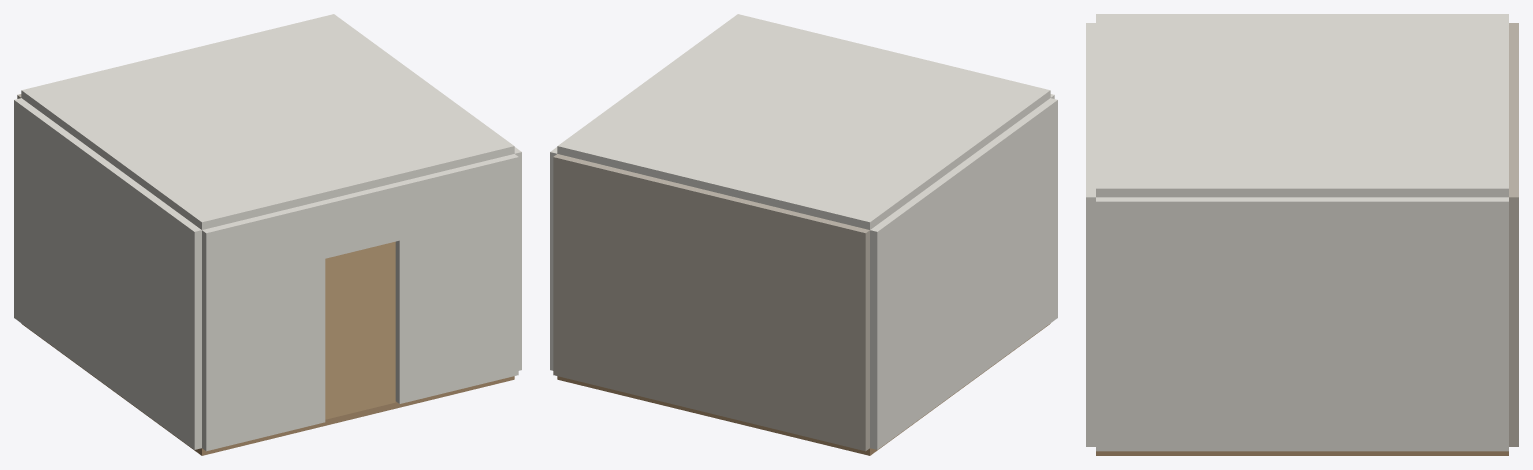
File: diana_room.obj
3 renders of one model, left to right at view 1: azimuth 30°, elevation 25°; view 2: azimuth 150°, elevation 25°; view 3: azimuth 270°, elevation 25°, orthographic. The views are drawn at different scales.
Bounding box in the file's own units: 4.4 × 3 × 4.4.
